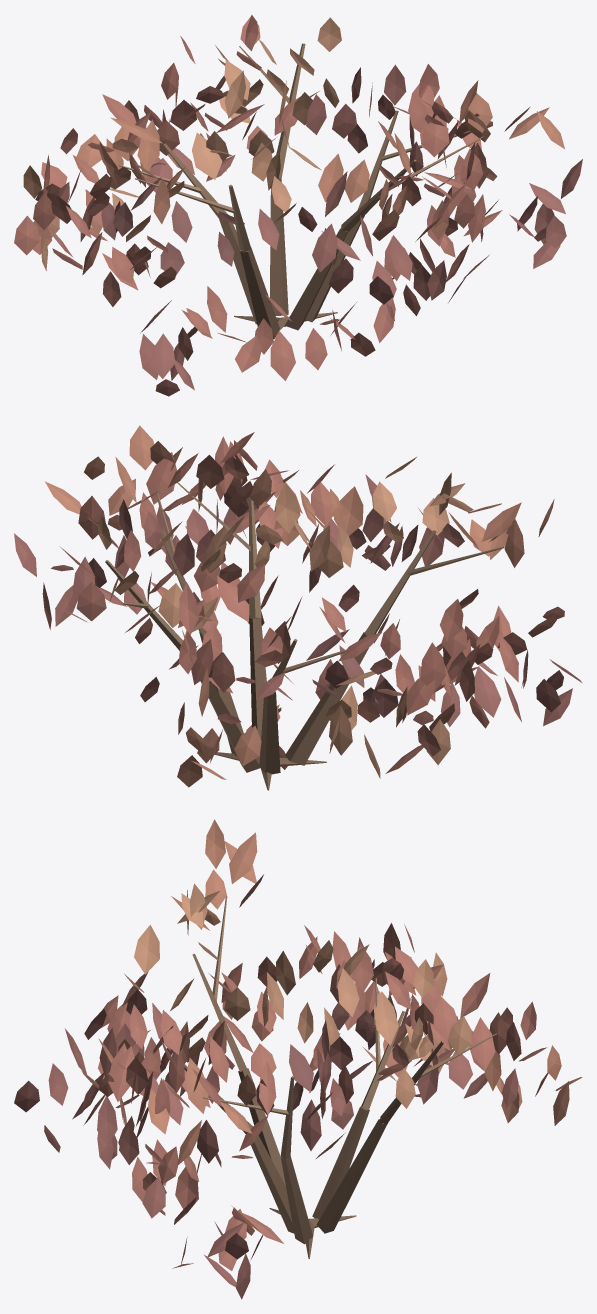
File: bush_3d_01_red.glb
3 views of the same model, one above another, from view 1: azimuth 30°, elevation 25°; view 2: azimuth 150°, elevation 25°; view 3: azimuth 270°, elevation 25° (orthographic). The views are drawn at different scales.
Parts seen in each view (by area): view 1: bush_3d_01_red_foliage, bush_3d_01_red_wood; view 2: bush_3d_01_red_foliage, bush_3d_01_red_wood; view 3: bush_3d_01_red_foliage, bush_3d_01_red_wood.
Part boxes in pixels (x1,y1,x2,y2): bush_3d_01_red_foliage: (14,14,582,396); bush_3d_01_red_wood: (118,43,483,338); bush_3d_01_red_foliage: (14,425,582,787); bush_3d_01_red_wood: (105,482,504,790); bush_3d_01_red_foliage: (14,819,582,1299); bush_3d_01_red_wood: (184,896,496,1258).
Size of the model in its own units: 2.2 by 1.25 by 2.
